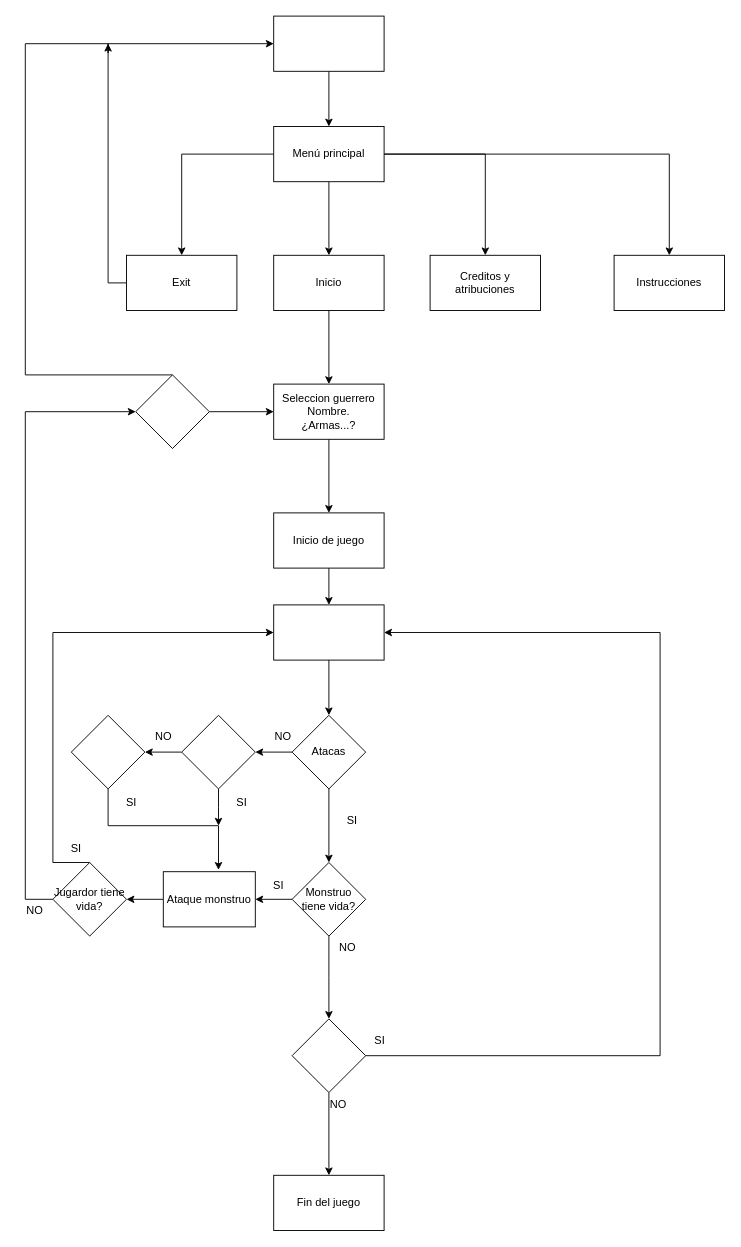
The diagram is 741 pixels wide and 1247 high, and some of its shapes have lost their labels. The shapes that lost their labels are listed below. From the top down, each one's centre as x and y in pixels, then its label:
the point at 328,43: Página de inicio (SNES)
the point at 172,411: Jugar mas
the point at 328,632: Inicio de round
the point at 107,751: Defensa
the point at 218,751: Curas
the point at 328,1055: Hay mas monstruos
